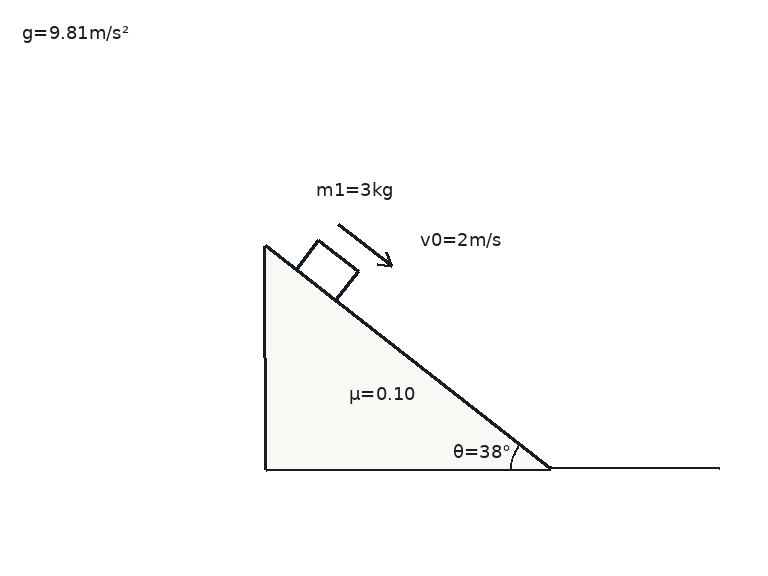block: (293, 238, 360, 303)
ramp: (263, 244, 553, 471)
